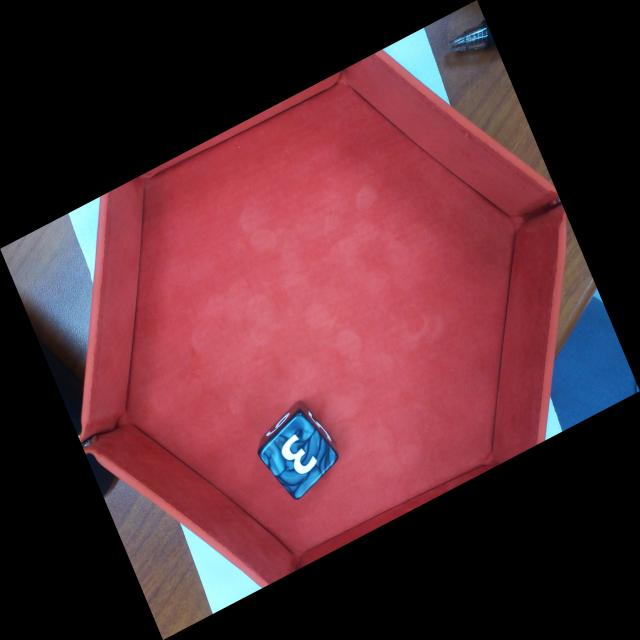dice: (268, 421, 336, 496)
